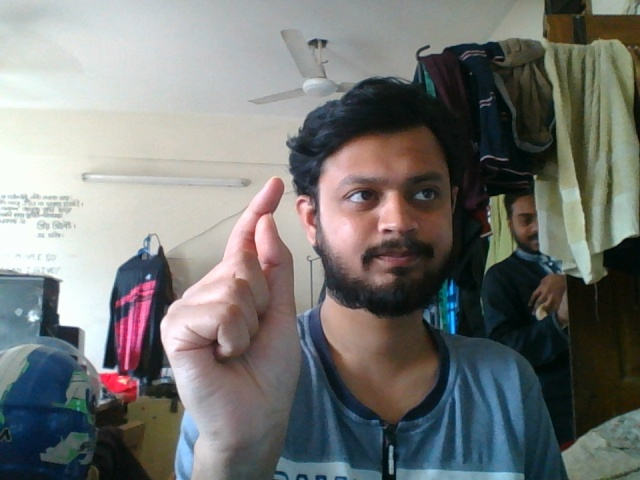tha: (155, 173, 305, 467)
